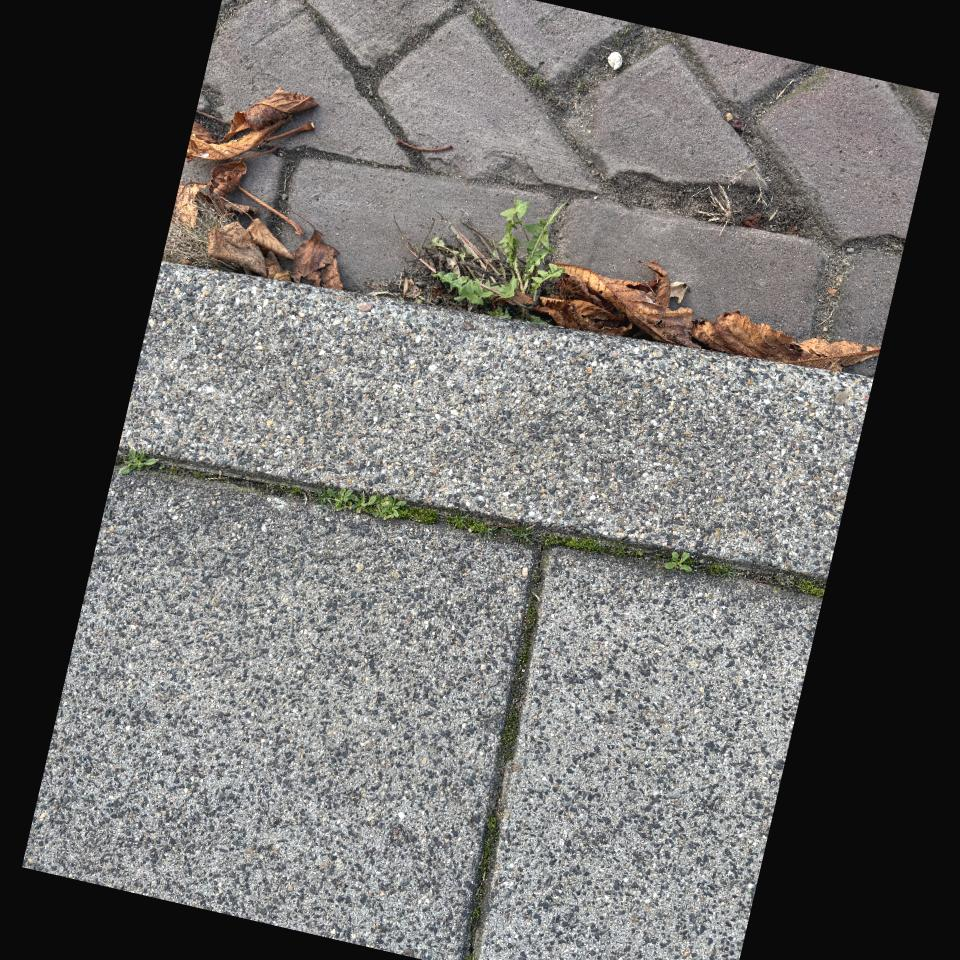weed: (432, 201, 563, 317), (119, 448, 157, 474), (371, 492, 407, 518), (327, 486, 352, 511), (350, 491, 377, 513), (664, 551, 692, 572), (310, 486, 334, 509)
